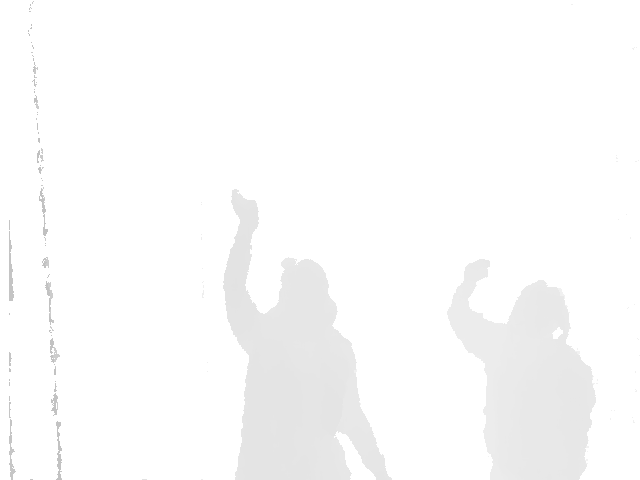hand: (230, 188, 258, 232), (462, 258, 490, 283)
head: (505, 279, 570, 349), (279, 258, 337, 332)
person: (222, 188, 393, 479), (446, 258, 599, 480)
